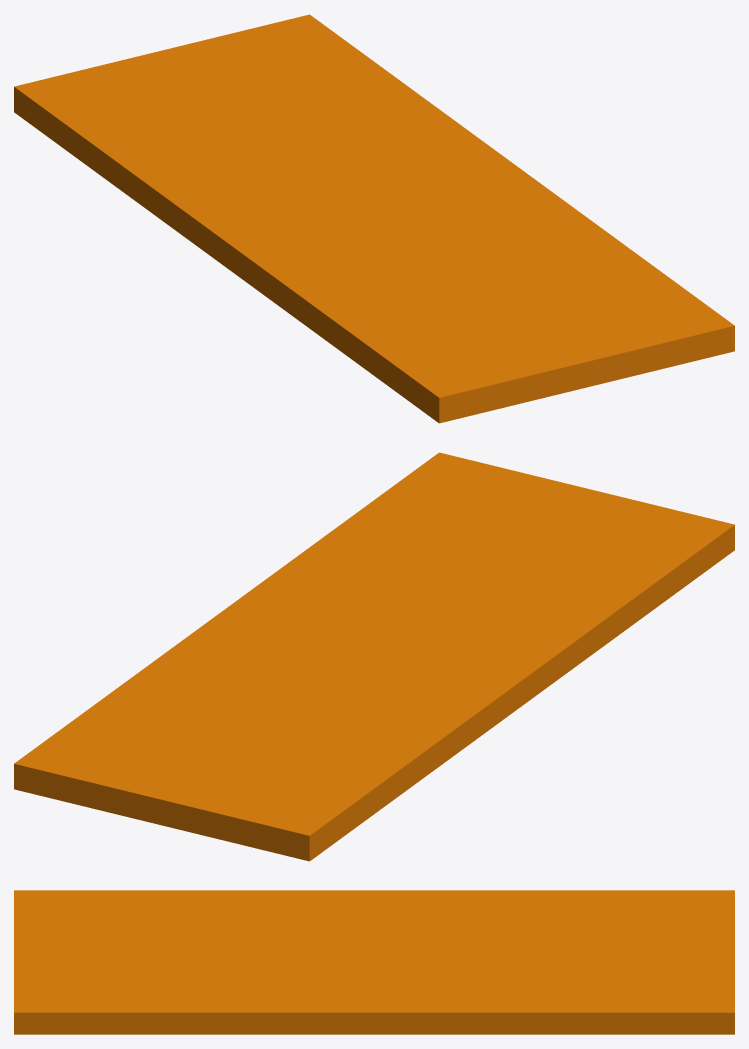
File: flaeche.fbx
3 views of the same model, one above another, from view 1: azimuth 30°, elevation 25°; view 2: azimuth 150°, elevation 25°; view 3: azimuth 270°, elevation 25° (orthographic). The views are drawn at different scales.
Visible parts, largest first — view 1: Box; view 2: Box; view 3: Box.
Part boxes in pixels (bbox=[...]): Box: bbox=[14, 14, 734, 423]; Box: bbox=[14, 452, 734, 861]; Box: bbox=[14, 890, 734, 1034].
Bounding box in the file's own units: 17162 × 1421 × 42743.
